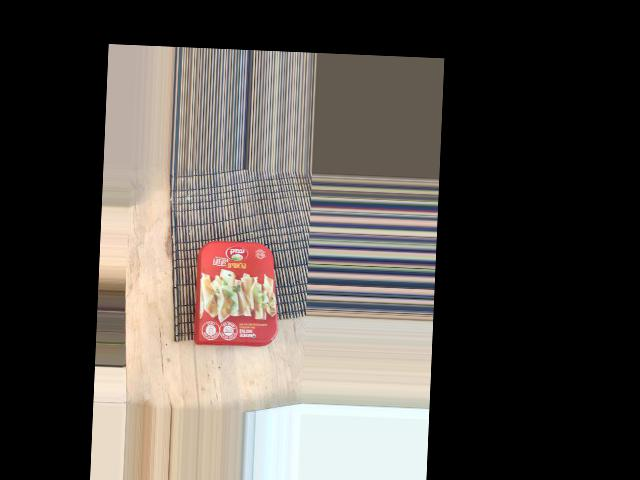cheese: (194, 246, 274, 365)
